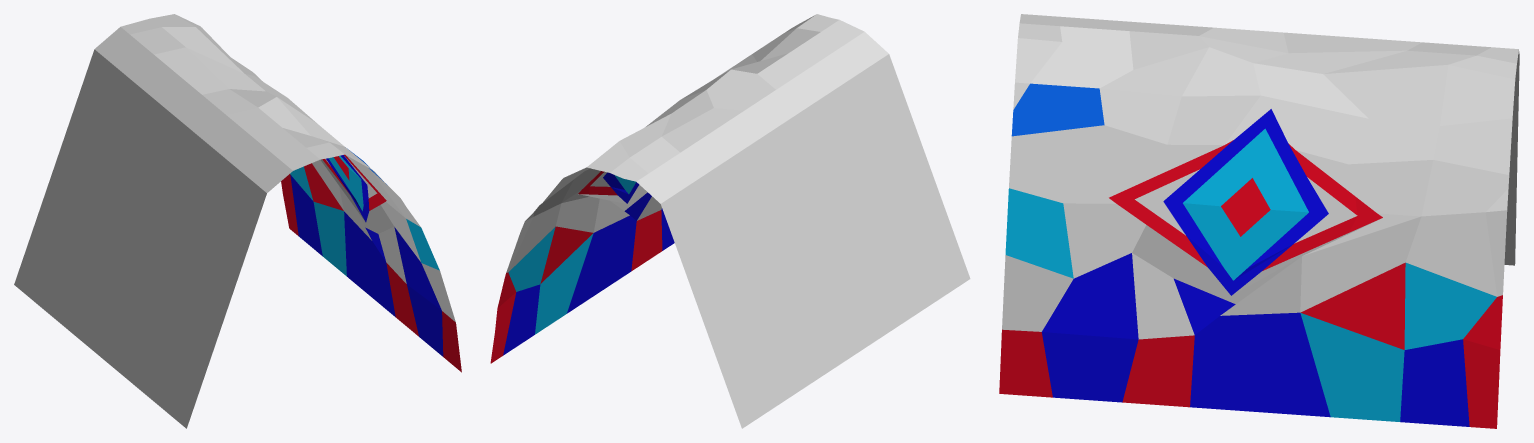
File: Forma1.fbx
3 views of the same model, side by side, from view 1: azimuth 30°, elevation 25°; view 2: azimuth 150°, elevation 25°; view 3: azimuth 270°, elevation 25° (orthographic). The views are drawn at different scales.
Parts seen in each view (by area): view 1: Sphere.006; view 2: Sphere.006; view 3: Sphere.006.
Part boxes in pixels (bbox=[...]): Sphere.006: bbox=[14, 14, 461, 428]; Sphere.006: bbox=[490, 14, 970, 428]; Sphere.006: bbox=[999, 14, 1519, 428].
Size of the model in its own units: 104 by 83.9 by 129.
